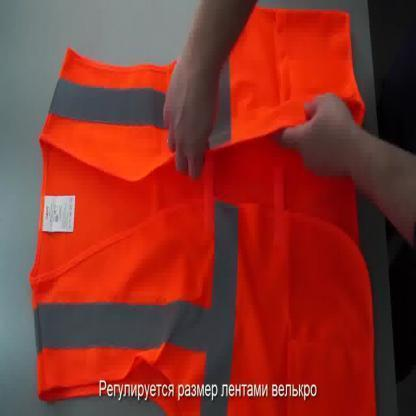vest: (29, 0, 377, 415)
